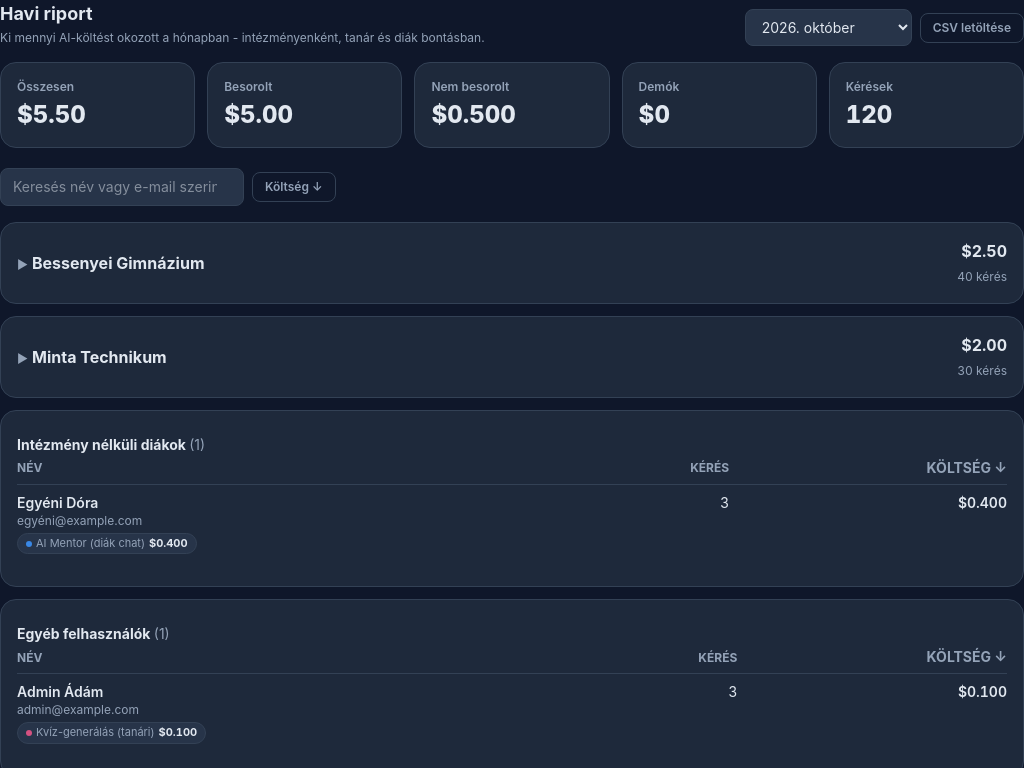
Test: AdminAiHaviRiportComponent › a keresés ékezet-függetlenül névre és e-mailre szűr, az intézményt kinyitja
Type "nagy bela" into the search field with test id "report-search".
click(122, 187); type("nagy bela")  # box 0,168 -> 244,206
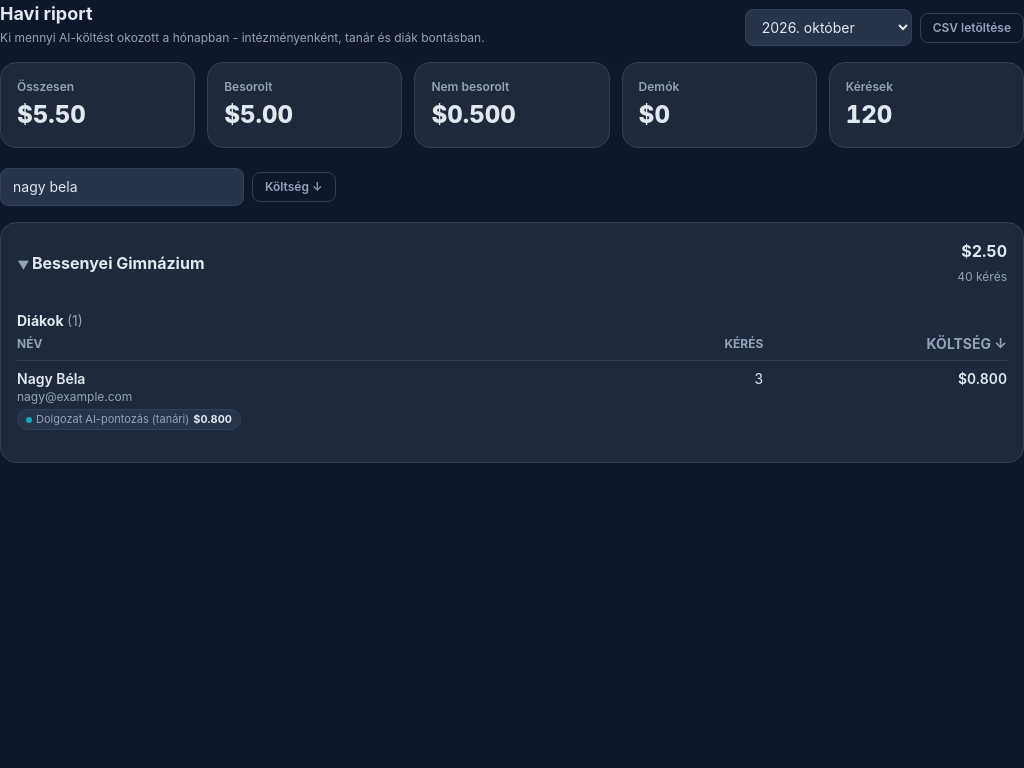
Expected: the number of elements with test id "institution" is 1, 0,222 -> 1023,463
Expected: the number of rows with test id "person-row" is 1, 17,360 -> 1007,438
Expected: the row with test id "person-row" shows "Nagy Béla", 17,370 -> 85,387
Replace the text in the search field with test id "report-search" with "senki" at [122, 187], box 0,168 -> 244,206
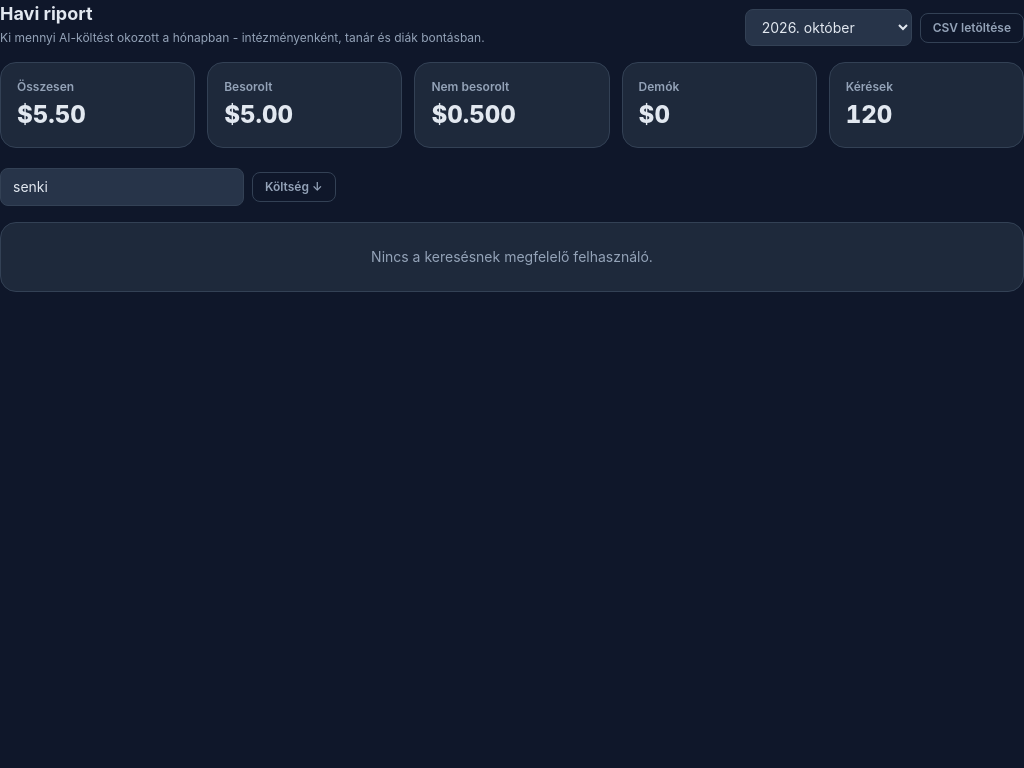
Expected: the text "Nincs a keresésnek megfelelő felhasználó." is shown, 0,222 -> 1023,292
